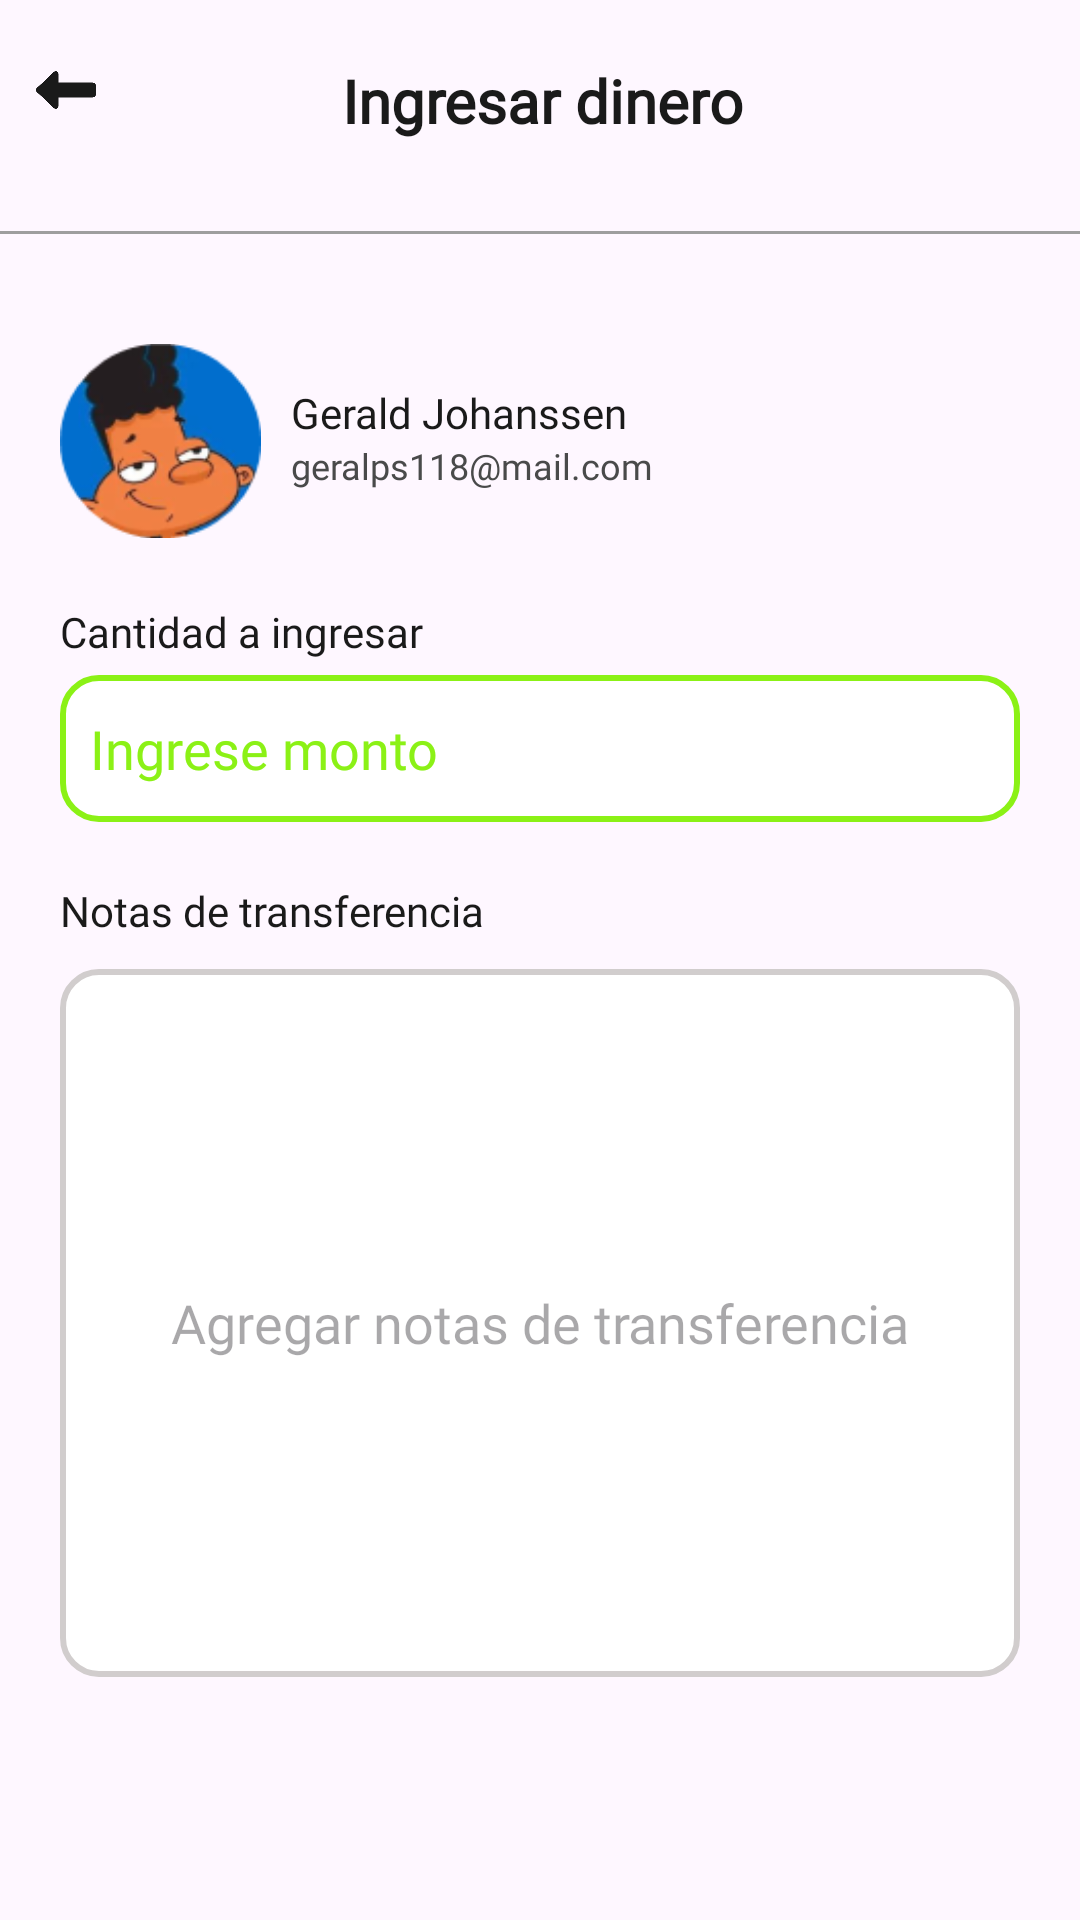

Screen size 1080*1920. Icon name, then its center in pixels as point (x, y):
left: point (66, 90)
